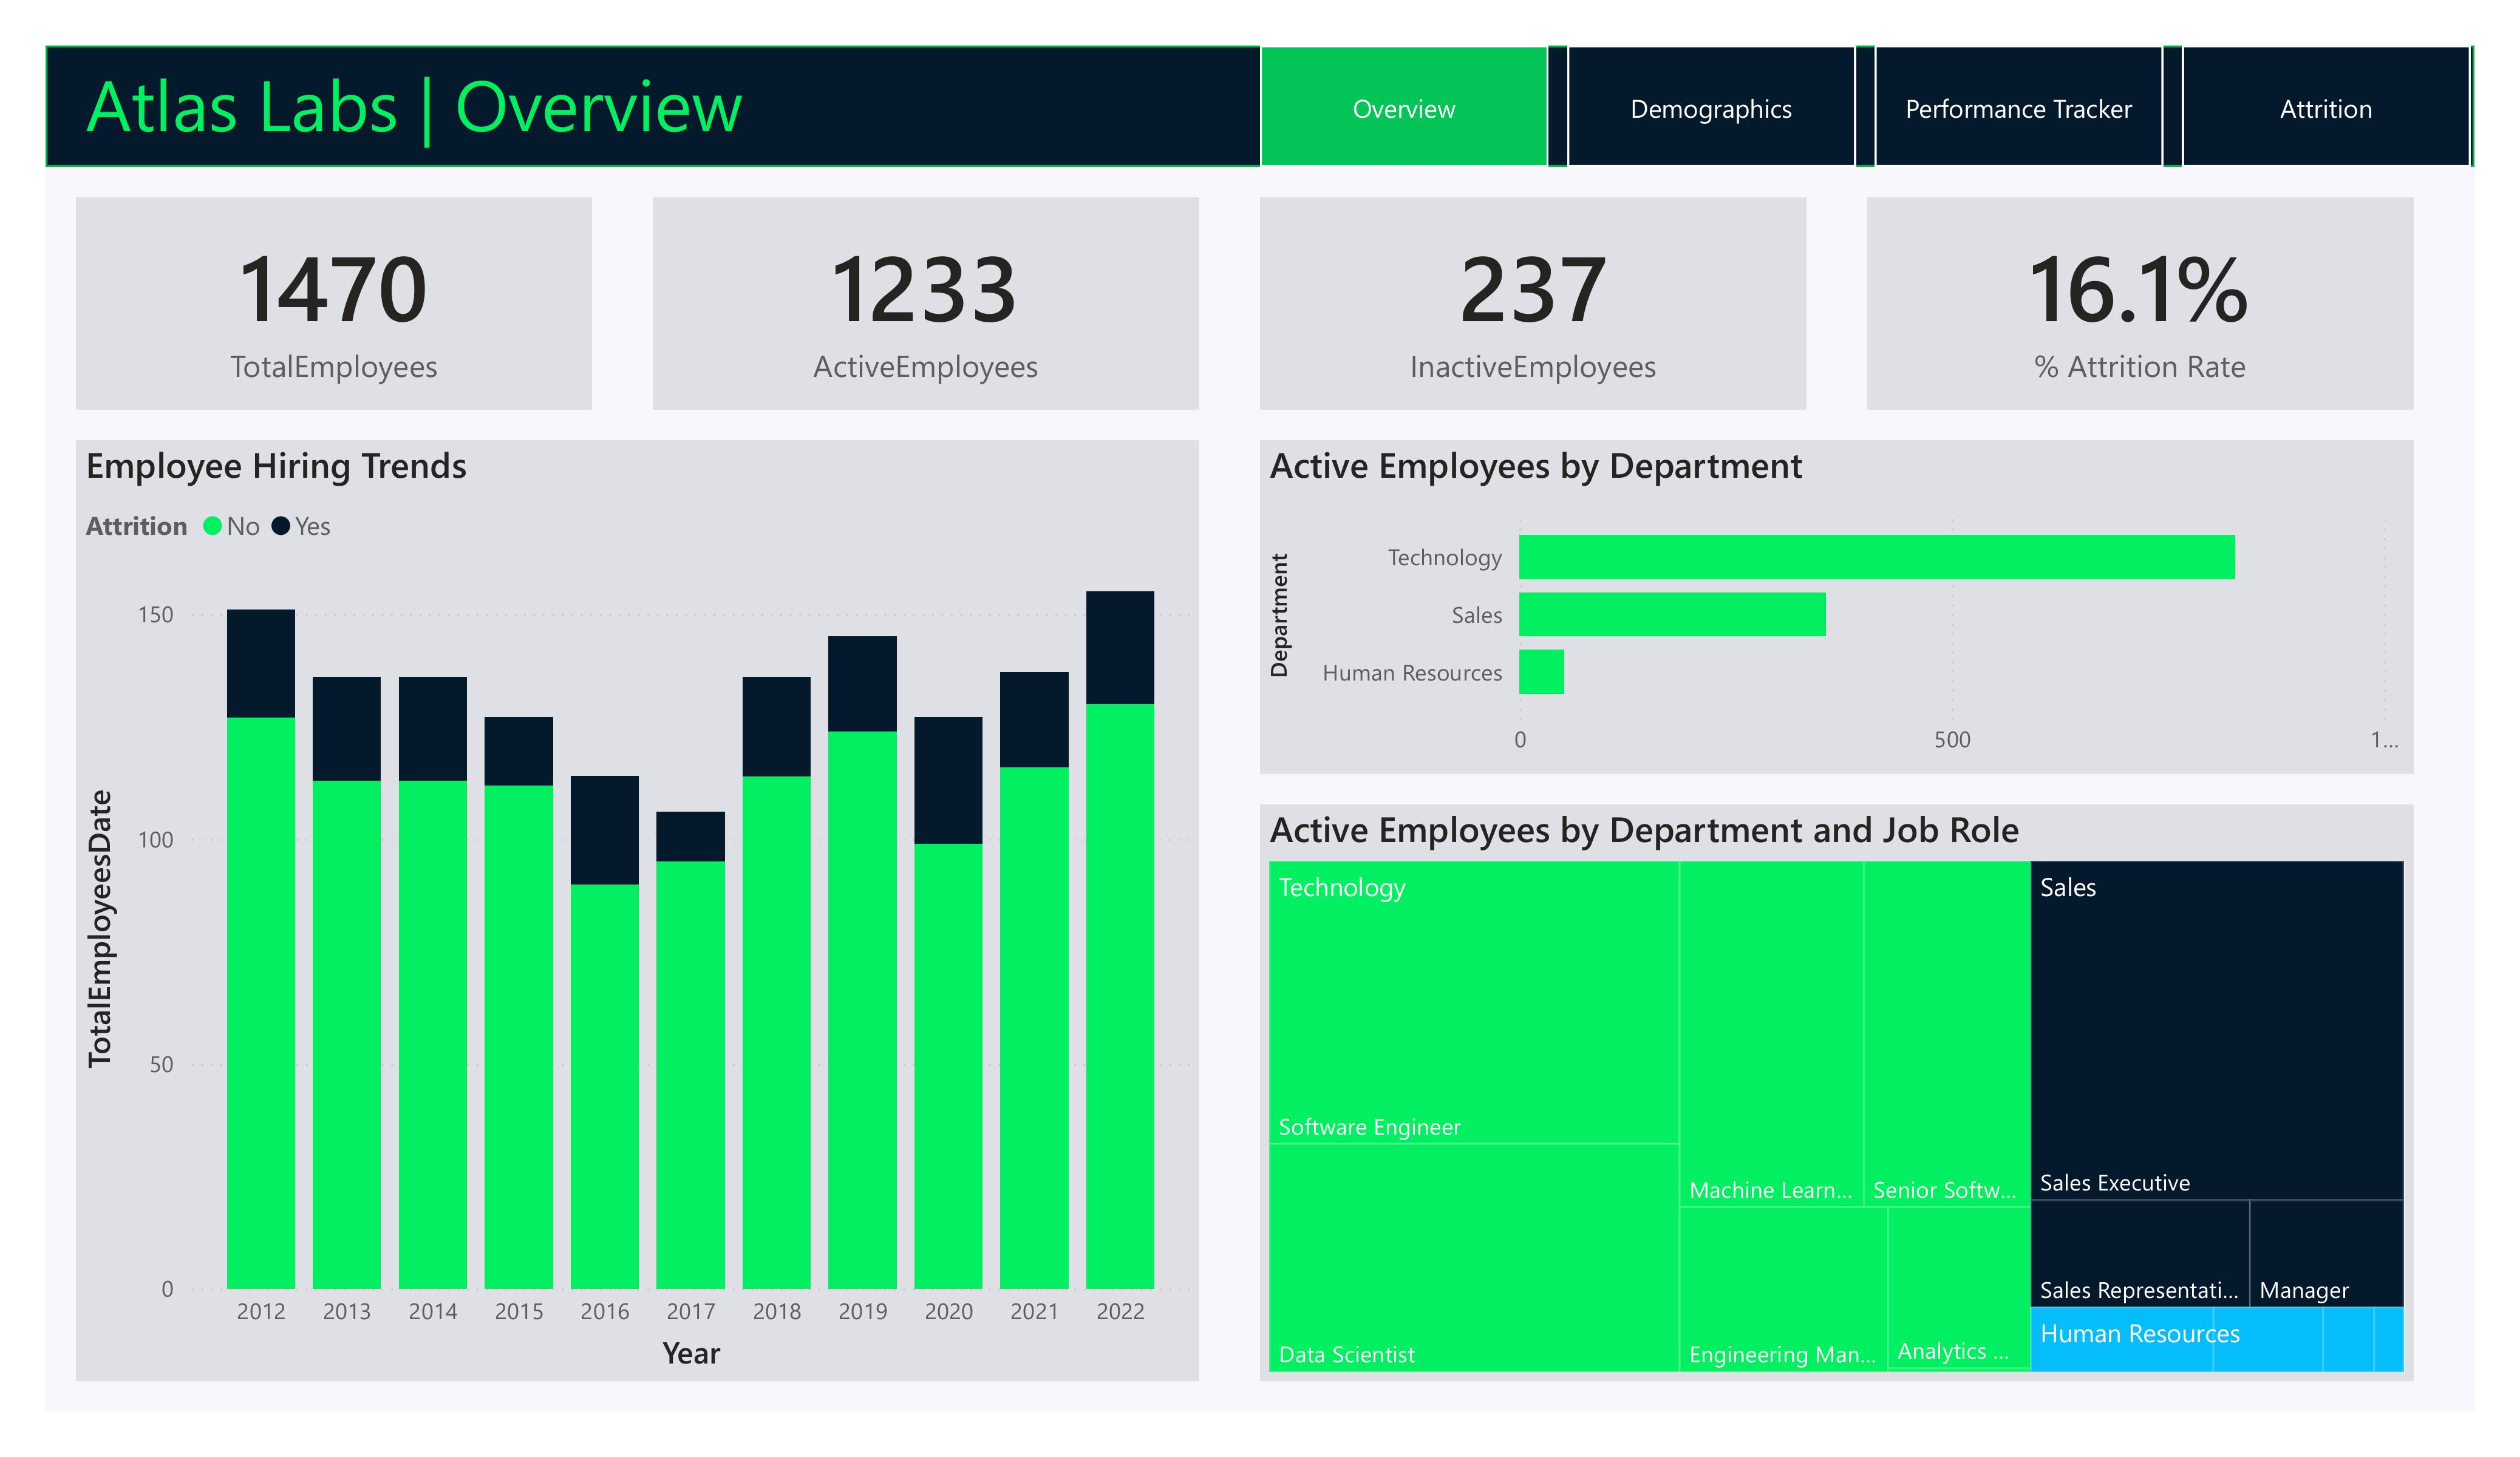

The dashboard page shown, as its layout file describes it:
{"tool":"powerbi","page":{"name":"Overview","canvas":[1280,720],"ordinal":0},"visuals":[{"type":"card","fields":{"Values":["_Measures.TotalEmployees"]},"box":[16,80,272,112],"z":0},{"type":"card","fields":{"Values":["_Measures.ActiveEmployees"]},"box":[320,80,288,112],"z":1000},{"type":"card","fields":{"Values":["_Measures.InactiveEmployees"]},"box":[640,80,288,112],"z":2000},{"type":"card","fields":{"Values":["_Measures.% Attrition Rate"]},"box":[960,80,288,112],"z":3000},{"type":"columnChart","title":"Employee Hiring Trends","fields":{"Category":["DimDate.Date.Variation.Date Hierarchy.Year","DimDate.Date.Variation.Date Hierarchy.Quarter","DimDate.Date.Variation.Date Hierarchy.Month","DimDate.Date.Variation.Date Hierarchy.Day"],"Y":["_Measures.TotalEmployeesDate"],"Series":["DimEmployee.Attrition"]},"box":[16,208,592,496],"z":4000},{"type":"clusteredBarChart","title":"Active Employees by Department","fields":{"Category":["DimEmployee.Department"],"Y":["_Measures.ActiveEmployees"]},"box":[640,208,608,176],"z":5000},{"type":"treemap","title":"Active Employees by Department and Job Role","fields":{"Values":["_Measures.ActiveEmployees"],"Group":["DimEmployee.Department"],"Details":["DimEmployee.JobRole"]},"box":[640,400,608,304],"z":6000},{"type":"shape","box":[0,0,1280,64],"z":7000},{"type":"textbox","box":[16,0,448,64],"z":8000},{"type":"pageNavigator","box":[640,0,640,64],"z":9000}]}

Visuals, with their boxes on the page's 1280x720 design canvas (x1, y1, x2, y2). These are canvas units, not pixel positions in the 2520x1457 screenshot, which may show the page scaled, cropped or inside an application window:
card - _Measures.TotalEmployees: BBox(16, 80, 288, 192)
card - _Measures.ActiveEmployees: BBox(320, 80, 608, 192)
card - _Measures.InactiveEmployees: BBox(640, 80, 928, 192)
card - _Measures.% Attrition Rate: BBox(960, 80, 1248, 192)
"Employee Hiring Trends" columnChart: BBox(16, 208, 608, 704)
"Active Employees by Department" clusteredBarChart: BBox(640, 208, 1248, 384)
"Active Employees by Department and Job Role" treemap: BBox(640, 400, 1248, 704)
shape: BBox(0, 0, 1280, 64)
textbox: BBox(16, 0, 464, 64)
pageNavigator: BBox(640, 0, 1280, 64)
